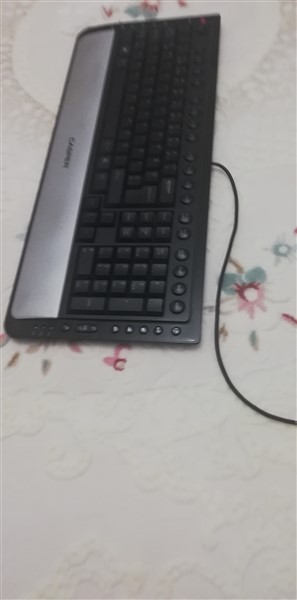klavye: (1, 12, 229, 340)
